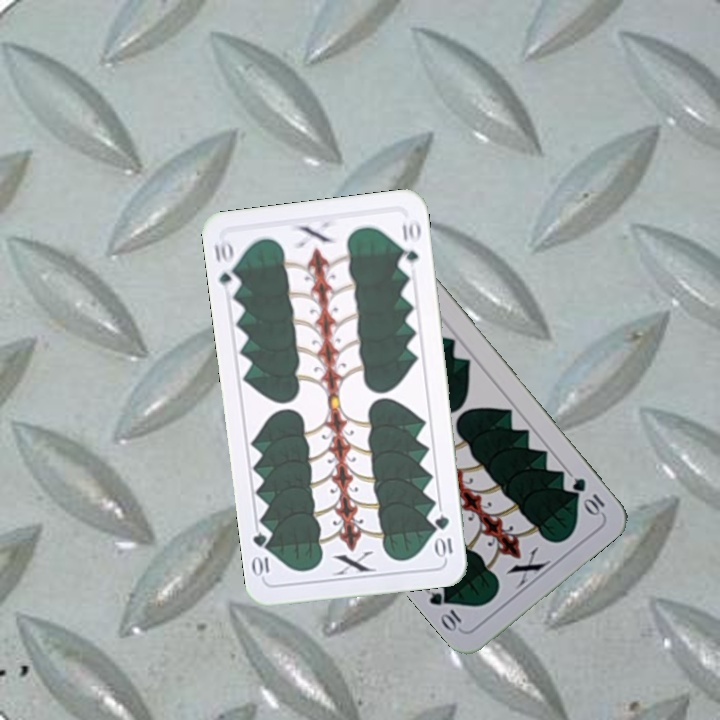G10: (210, 236, 242, 295), (568, 473, 608, 518), (431, 511, 455, 560)
